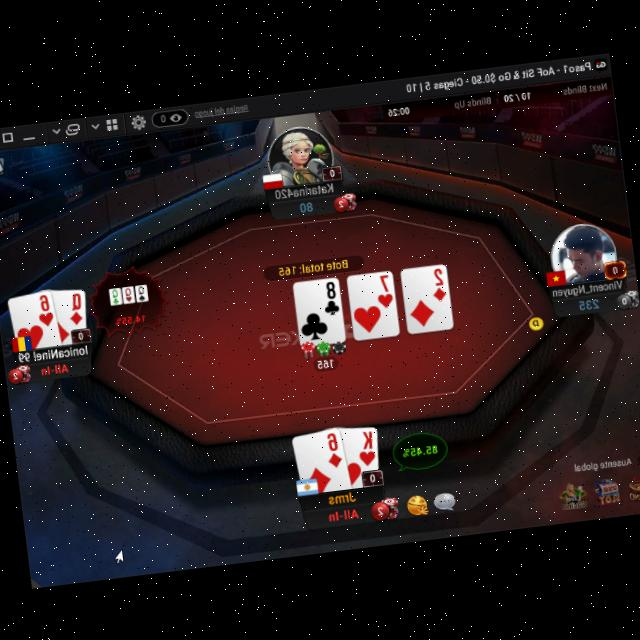2d: (426, 264, 448, 304)
6d: (322, 428, 344, 469)
6h: (34, 288, 55, 325)
7h: (373, 270, 394, 308)
8c: (319, 276, 341, 316)
9d: (322, 428, 344, 469)
Kh: (354, 426, 377, 466)
Qd: (64, 291, 86, 327)
all_in_symbol: (326, 501, 362, 522), (38, 358, 68, 374)
bet_text: (314, 354, 336, 369)
dealer: (524, 311, 545, 331)
pot_text: (275, 256, 350, 276)
stack_text: (576, 294, 600, 310), (296, 197, 316, 213)
